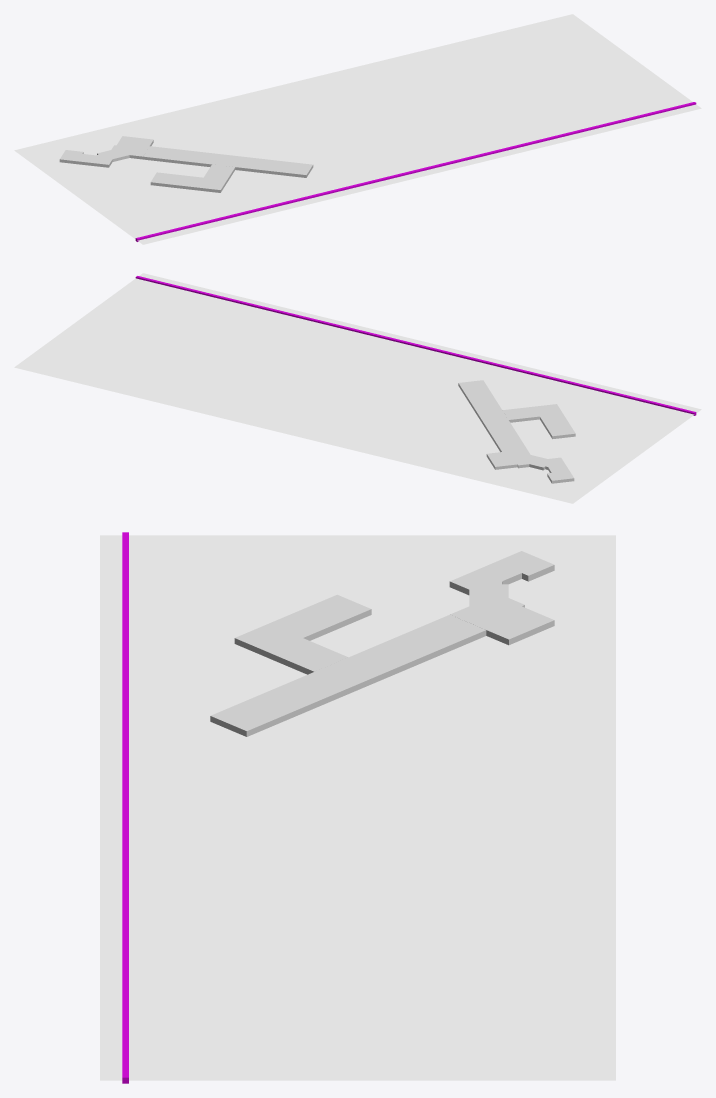
File: Plano.glb
3 views of the same model, one above another, from view 1: azimuth 30°, elevation 25°; view 2: azimuth 150°, elevation 25°; view 3: azimuth 270°, elevation 25° (orthographic). The views are drawn at different scales.
Parts seen in each view (by area): view 1: Plane, EdificioCentral, LimiteReal, EdificioCentral_1, Edificio_izq_1, Edificio_Izq_2; view 2: Plane, LimiteReal, EdificioCentral, EdificioCentral_1, Edificio_izq_1, Edificio_Izq_2; view 3: Plane, EdificioCentral, EdificioCentral_1, LimiteReal, Edificio_izq_1, Edificio_Izq_2.
Part boxes in pixels (x1,y1,x2,y2): Plane: (14,14,701,244); EdificioCentral: (143,146,313,177); LimiteReal: (135,102,696,241); EdificioCentral_1: (59,136,153,167); Edificio_izq_1: (150,172,226,192); Edificio_Izq_2: (204,164,235,182); Plane: (14,273,701,503); LimiteReal: (135,276,696,415); EdificioCentral: (458,380,526,452); EdificioCentral_1: (486,449,574,483); Edificio_izq_1: (534,404,575,439); Edificio_Izq_2: (502,406,539,422); Plane: (100,535,615,1080); EdificioCentral: (210,614,486,736); EdificioCentral_1: (449,551,554,645); LimiteReal: (122,532,128,1083); Edificio_izq_1: (234,594,371,657); Edificio_Izq_2: (268,638,348,674).
Size of the model in its own units: 400 by 3.03 by 160.
Materials: 2 (1 with a texture image).
